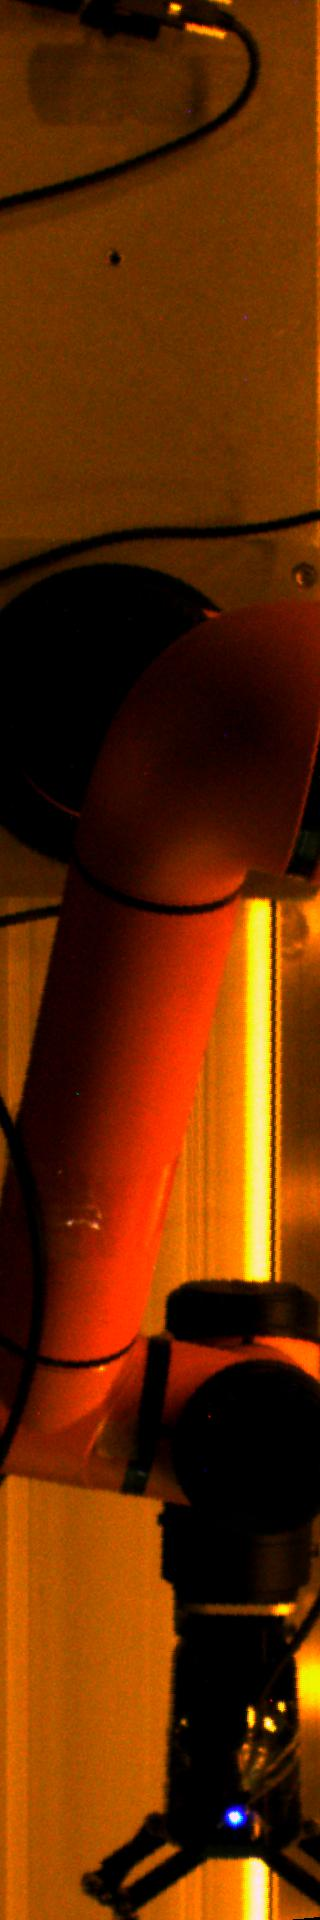keyPoint_1: (219, 1800, 250, 1829)
keyPoint_2: (99, 244, 129, 274)
